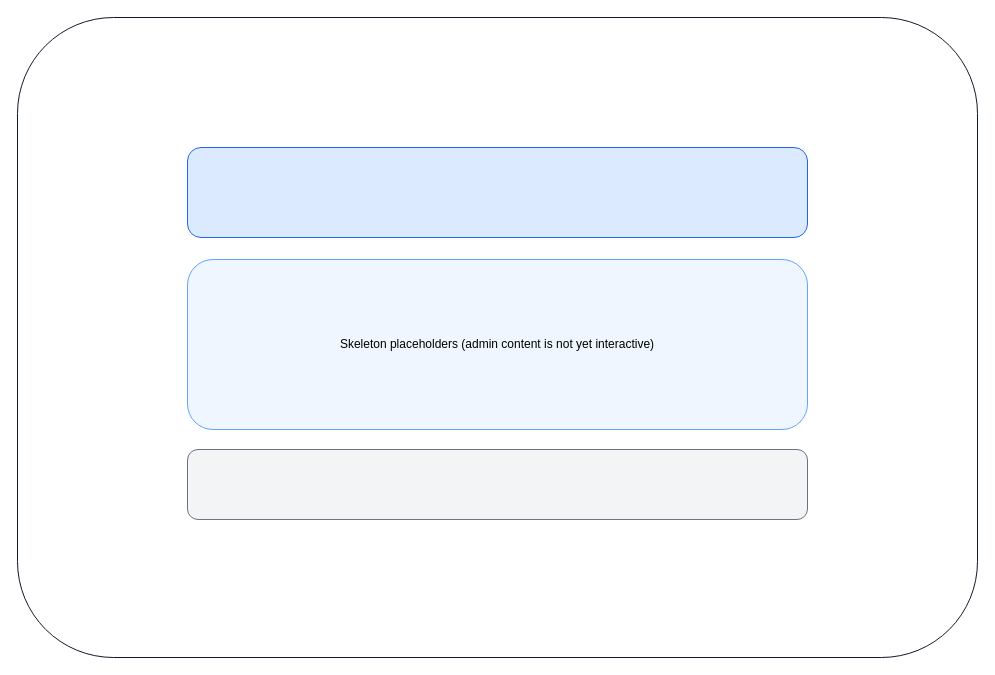
The diagram is 995 pixels wide and 675 high, and some of its shapes have lost their labels. Here are the shapes that lost their labels. From the top down, the box of each, then its label:
(186, 146, 808, 238): 権限判定中...
(186, 448, 808, 520): Buttons disabled until permission check completes
